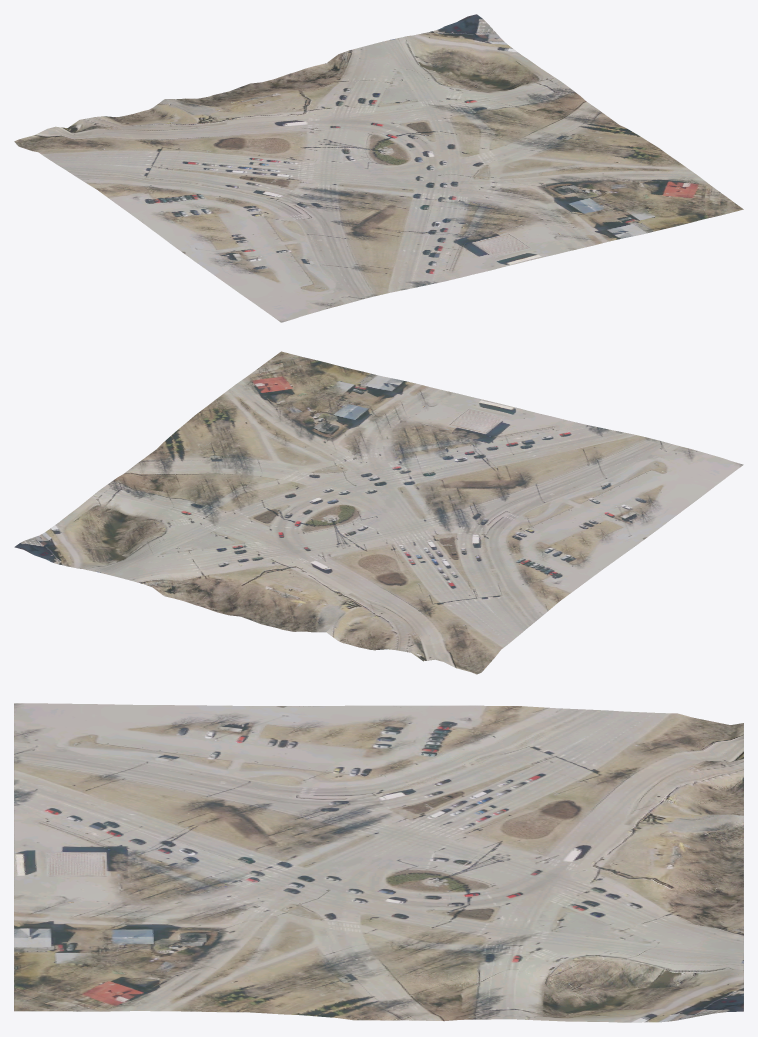
Rendered from CM_Terrain_24488206_6819999.fbx.
3 renders of one model, top to bottom at view 1: azimuth 30°, elevation 25°; view 2: azimuth 150°, elevation 25°; view 3: azimuth 270°, elevation 25°, orthographic. The views are drawn at different scales.
Visible parts, largest first — view 1: CM_Terrain_24488206_6819999_LOD0; view 2: CM_Terrain_24488206_6819999_LOD0; view 3: CM_Terrain_24488206_6819999_LOD0.
Part boxes in pixels (x1,y1,x2,y2): CM_Terrain_24488206_6819999_LOD0: [14, 14, 743, 322]; CM_Terrain_24488206_6819999_LOD0: [14, 351, 743, 674]; CM_Terrain_24488206_6819999_LOD0: [14, 703, 743, 1022].
Size of what is drawn, in the model's own units: 205 by 8.85 by 205.
